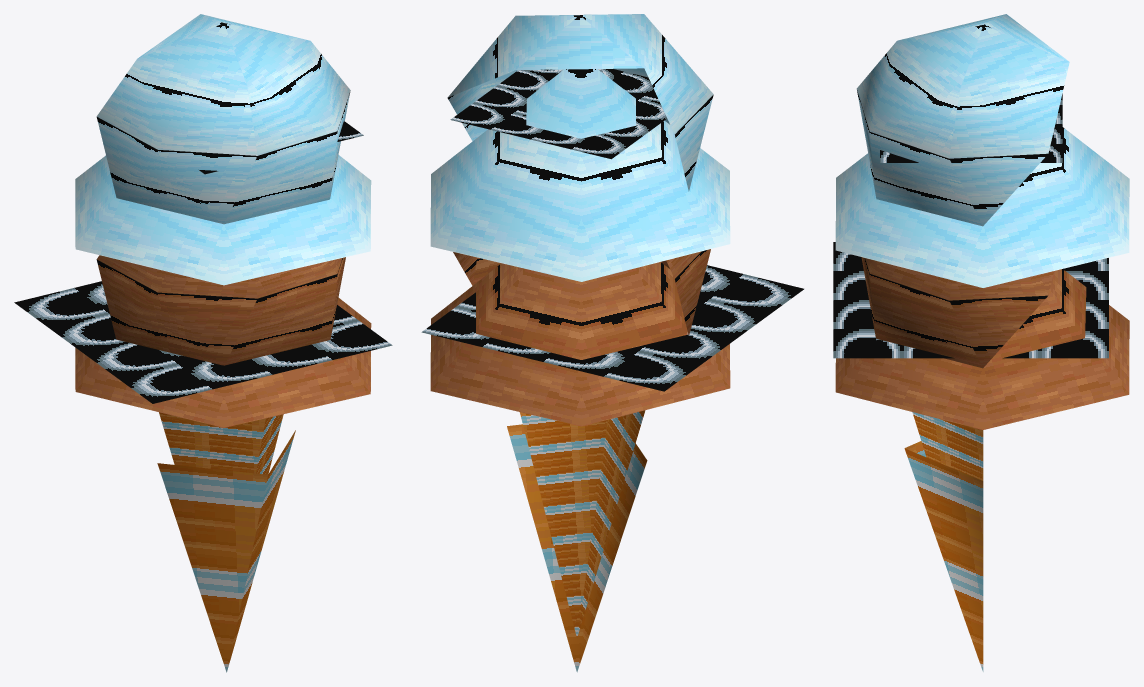
Rendered from 5614u_ice00_hs.gltf.
3 views of the same model, side by side, from view 1: azimuth 30°, elevation 25°; view 2: azimuth 150°, elevation 25°; view 3: azimuth 270°, elevation 25° (orthographic).
Visible parts, largest first — view 1: 5614u_ice00_hs; view 2: 5614u_ice00_hs; view 3: 5614u_ice00_hs.
Boxes of the visible parts, bbox=[...] form: 5614u_ice00_hs: bbox=[14, 14, 392, 672]; 5614u_ice00_hs: bbox=[421, 14, 803, 672]; 5614u_ice00_hs: bbox=[833, 14, 1129, 671].
Size of the model in its own units: 0.4375 by 0.9199 by 0.3818.
Materials: 6 (6 with a texture image).
